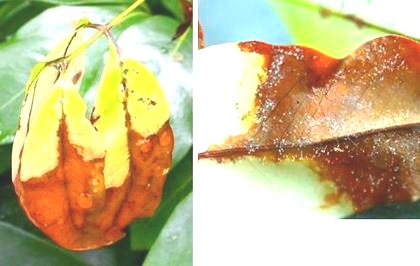Frost_Blight: (254, 30, 418, 199), (12, 94, 176, 248)
